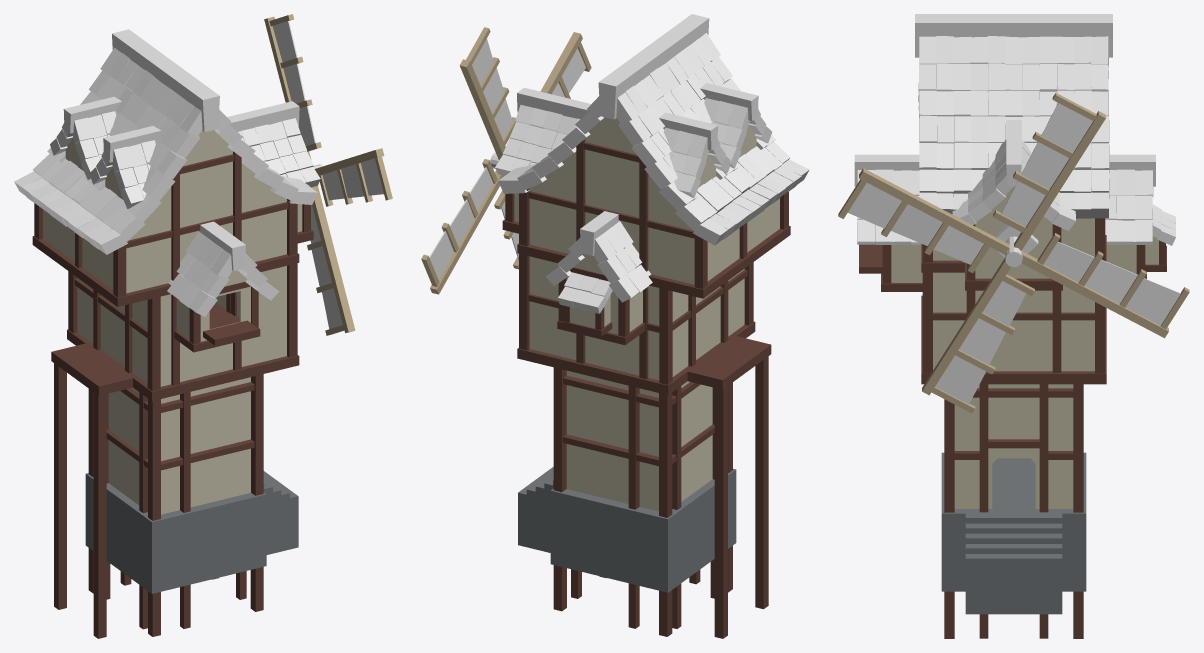
Rendered from fang04_4.fbx.
The picture shows the model from 3 angles, left to right: view 1: azimuth 30°, elevation 25°; view 2: azimuth 150°, elevation 25°; view 3: azimuth 270°, elevation 25°; orthographic projection. The views are drawn at different scales.
Visible parts, largest first — view 1: fang04, zhuzi, 立方体.021, wuding2.013, diban, 立方体.090, wuding9, 立方体.013, wuding4, fengche, wuding1, wuding8 (+7 smaller); view 2: fang04, zhuzi, 立方体.021, wuding2.013, diban, 立方体.090, 立方体.013, wuding3, fengche, wuding12, wuding1, 立方体.093 (+8 smaller); view 3: wuding1, fang04, 立方体.021, 立方体.090, zhuzi, fengche, 立方体.093, 立方体.013, diban, wuding11, wuding4, wuding10 (+5 smaller).
Part boxes in pixels (left/top/right/bottom): fang04: left=43, top=130, right=302, bottom=514; zhuzi: left=34, top=151, right=310, bottom=638; 立方体.021: left=85, top=471, right=298, bottom=593; wuding2.013: left=14, top=47, right=202, bottom=254; diban: left=32, top=229, right=313, bottom=400; 立方体.090: left=272, top=21, right=383, bottom=328; wuding9: left=167, top=231, right=232, bottom=316; 立方体.013: left=112, top=29, right=219, bottom=132; wuding4: left=238, top=118, right=320, bottom=187; fengche: left=264, top=16, right=384, bottom=333; wuding1: left=214, top=110, right=317, bottom=204; wuding8: left=111, top=140, right=155, bottom=208; fang04: left=514, top=117, right=779, bottom=511; zhuzi: left=505, top=139, right=788, bottom=638; 立方体.021: left=518, top=467, right=736, bottom=592; wuding2.013: left=616, top=33, right=809, bottom=245; diban: left=502, top=219, right=790, bottom=394; 立方体.090: left=429, top=38, right=585, bottom=279; 立方体.013: left=598, top=14, right=709, bottom=119; wuding3: left=495, top=105, right=579, bottom=175; fengche: left=430, top=32, right=582, bottom=294; wuding12: left=593, top=221, right=652, bottom=302; wuding1: left=498, top=96, right=603, bottom=193; 立方体.093: left=421, top=27, right=591, bottom=286; wuding1: left=919, top=36, right=1109, bottom=218; fang04: left=891, top=64, right=1158, bottom=508; 立方体.021: left=941, top=452, right=1086, bottom=614; 立方体.090: left=848, top=103, right=1180, bottom=404; zhuzi: left=882, top=218, right=1165, bottom=638; fengche: left=859, top=111, right=1168, bottom=395; 立方体.093: left=838, top=93, right=1189, bottom=413; 立方体.013: left=915, top=14, right=1112, bottom=57; diban: left=859, top=235, right=1166, bottom=384; wuding11: left=1105, top=169, right=1153, bottom=244; wuding4: left=952, top=139, right=1012, bottom=224; wuding10: left=857, top=169, right=921, bottom=244.
Bounding box in the file's own units: 774 × 1503 × 816.
